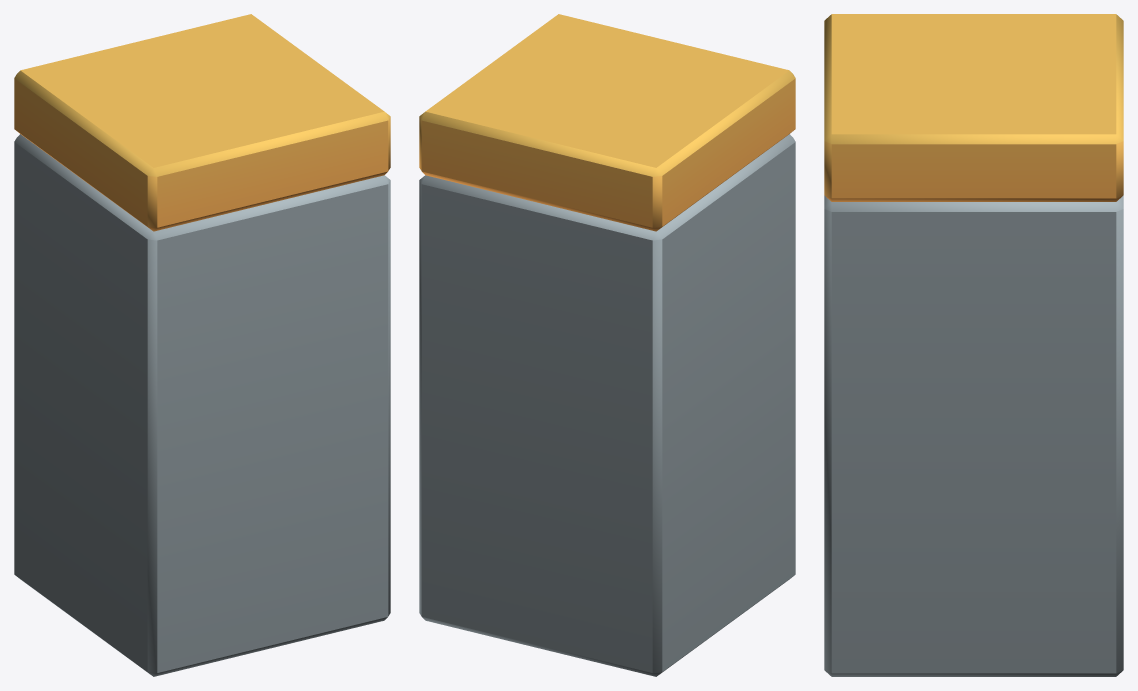
Rendered from kaykit_platform_2x2x4_yellow.glb.
3 renders of one model, left to right at view 1: azimuth 30°, elevation 25°; view 2: azimuth 150°, elevation 25°; view 3: azimuth 270°, elevation 25°, orthographic. The views are drawn at different scales.
Visible parts, largest first — view 1: platform_2x2x4_yellow_visual; view 2: platform_2x2x4_yellow_visual; view 3: platform_2x2x4_yellow_visual.
Part boxes in pixels (<box>): platform_2x2x4_yellow_visual: <box>14,14,390,676</box>; platform_2x2x4_yellow_visual: <box>419,14,795,676</box>; platform_2x2x4_yellow_visual: <box>824,14,1123,676</box>.
Size of what is drawn, in the model's own units: 2 by 4 by 2.
1 material, 1 textured.
